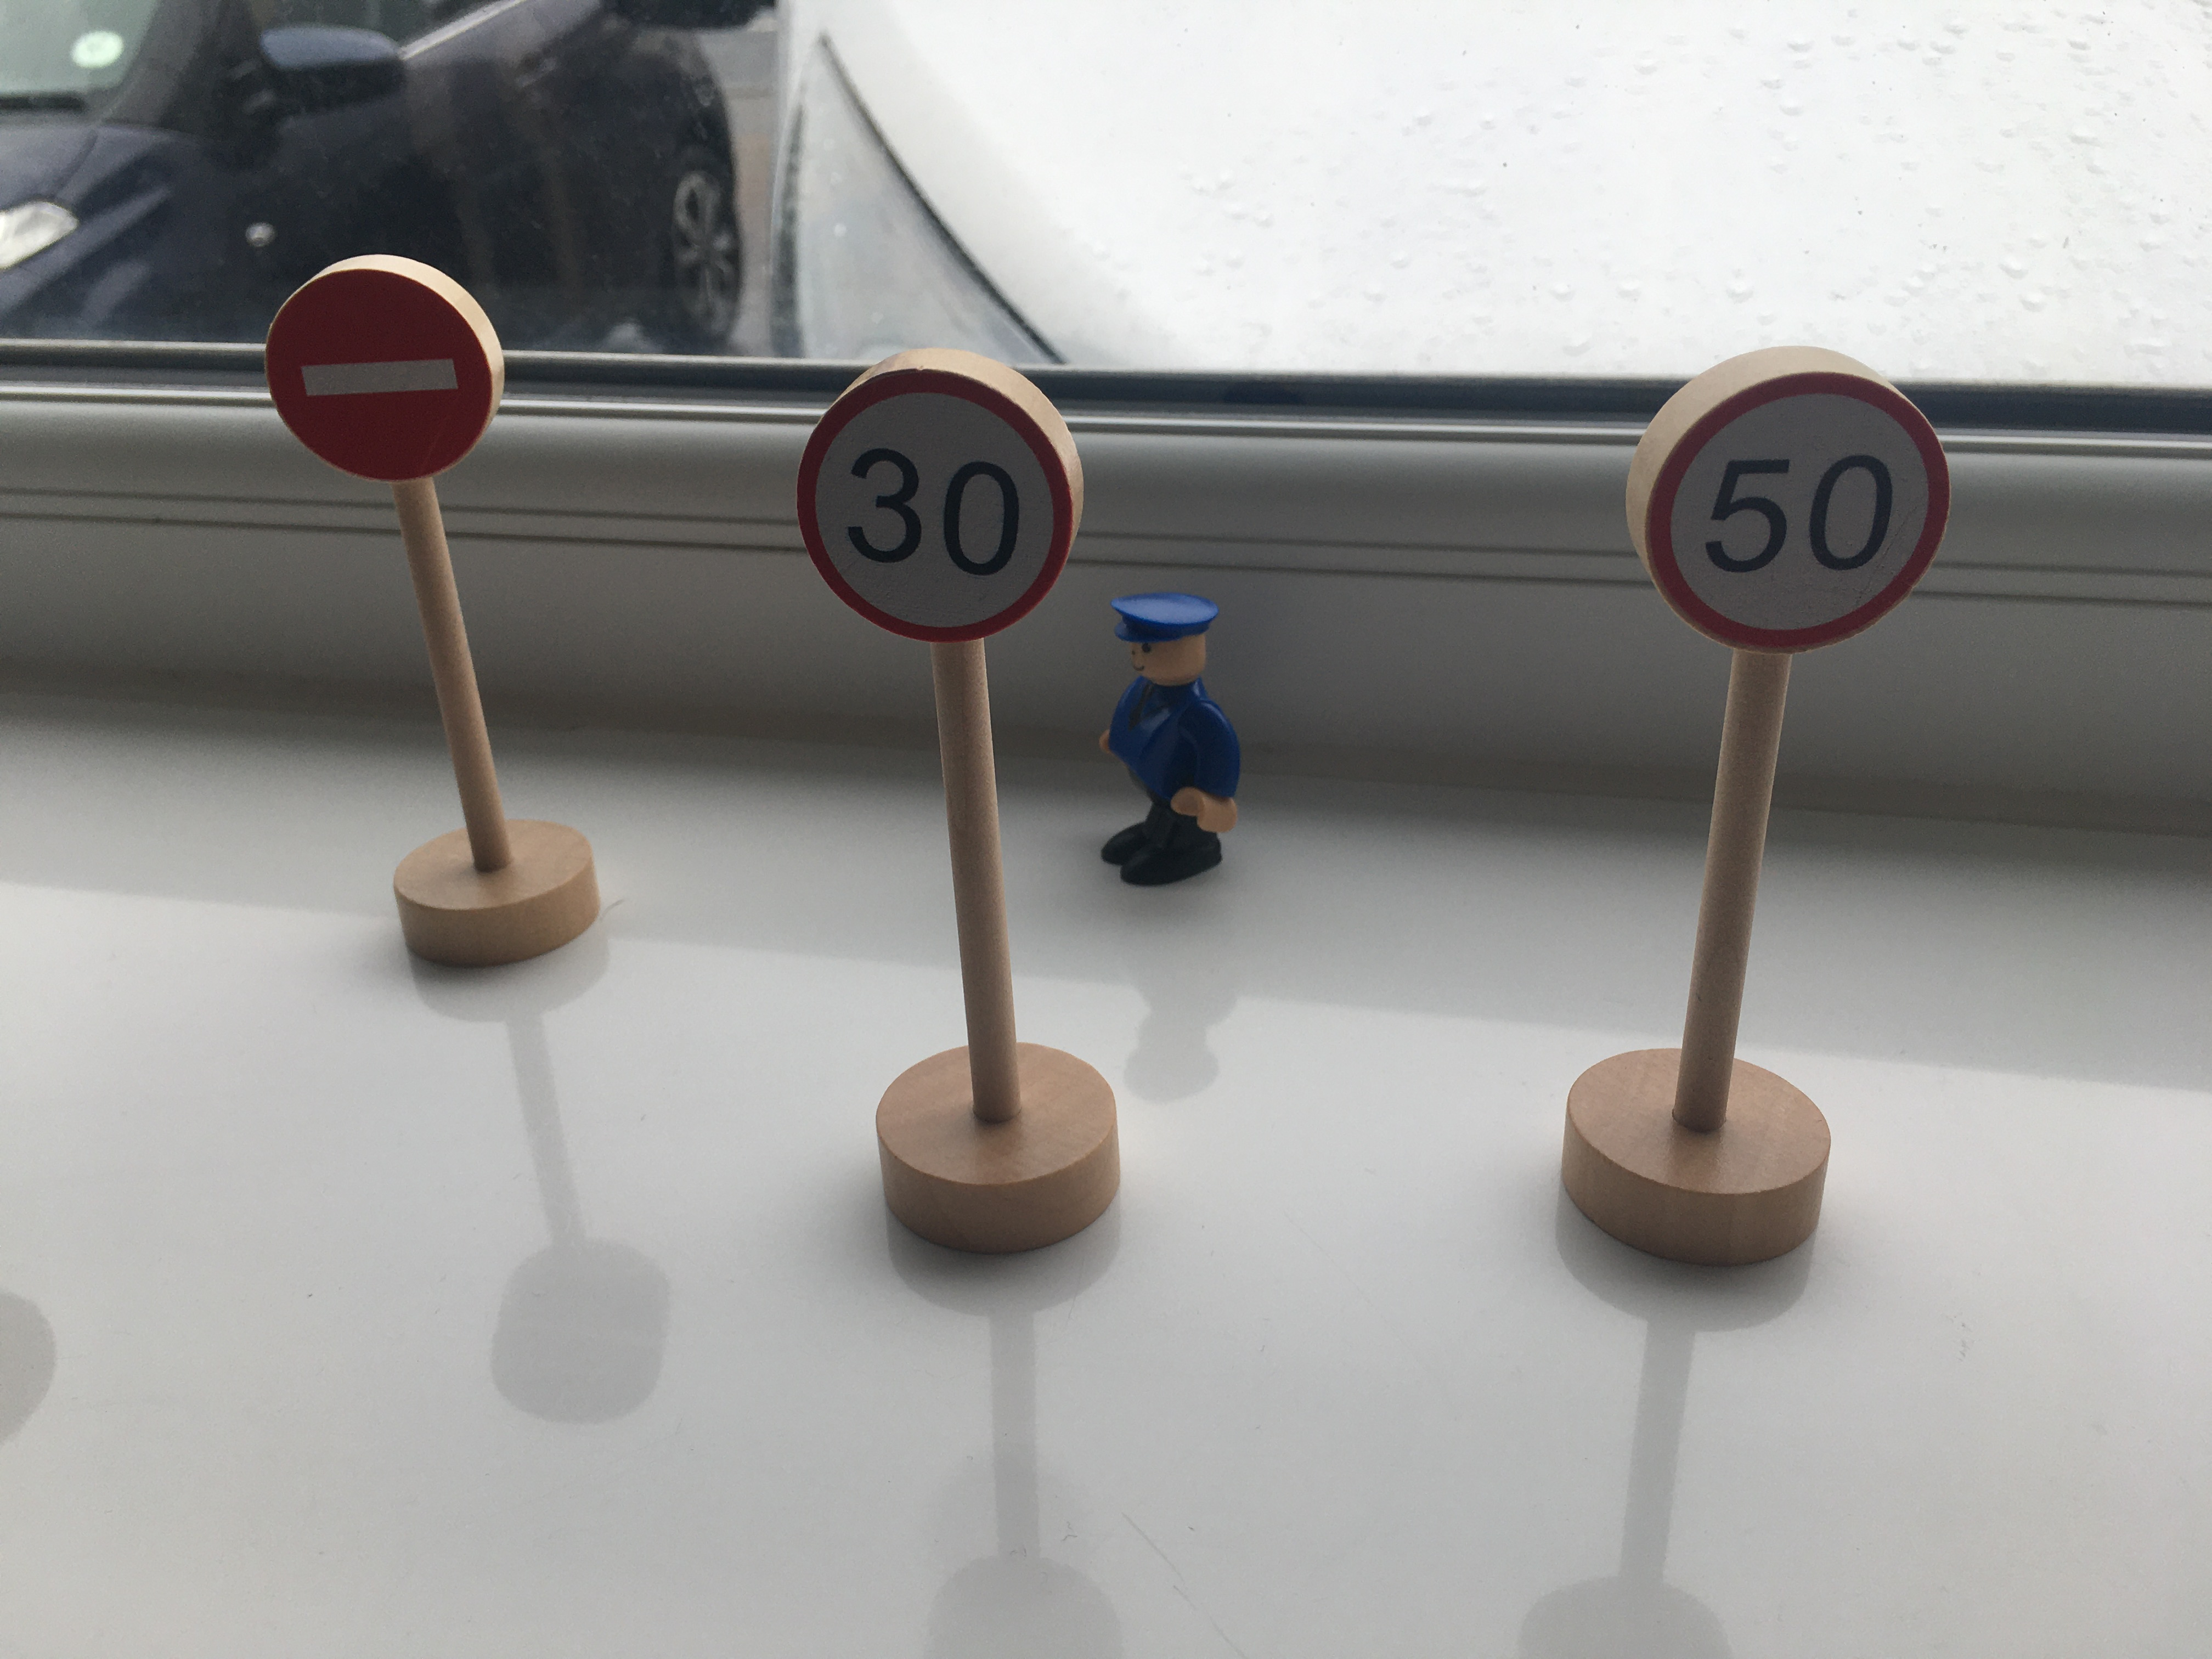Traffic_Sign_30: (794, 366, 1075, 639)
Traffic_Sign_50: (1650, 386, 1943, 646)
Traffic_Sign_No_Entry: (263, 267, 498, 483)
person: (1094, 579, 1252, 901)
